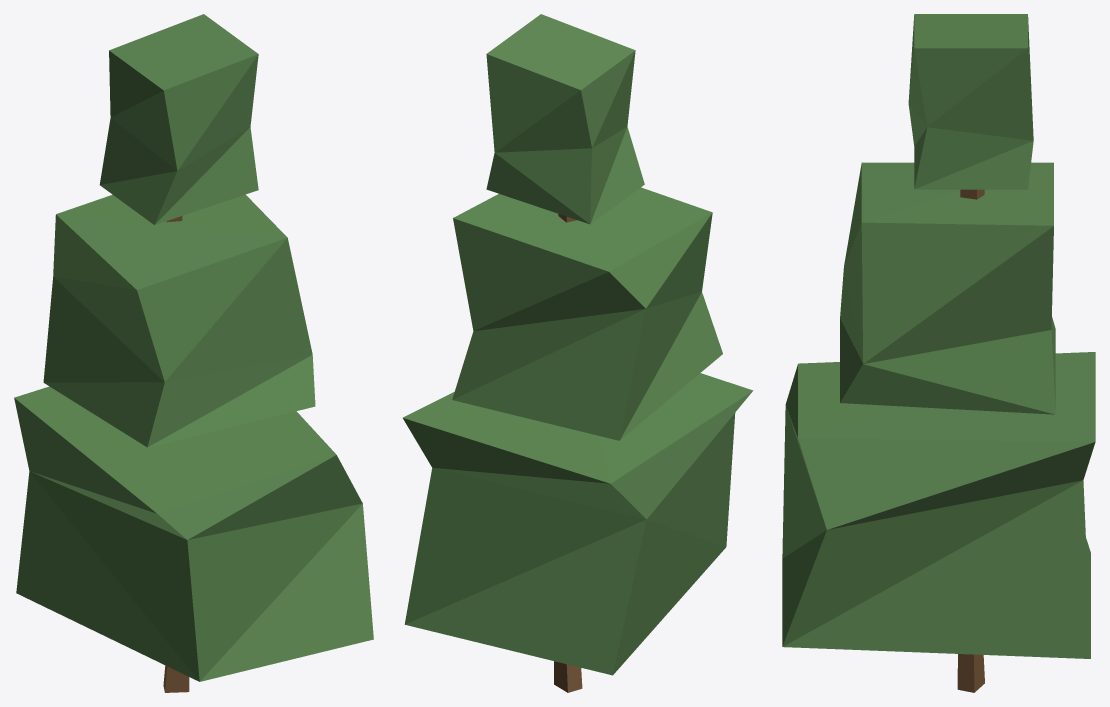
File: tree3d-008.glb
3 renders of one model, left to right at view 1: azimuth 30°, elevation 25°; view 2: azimuth 150°, elevation 25°; view 3: azimuth 270°, elevation 25°, orthographic. The views are drawn at different scales.
Visible parts, largest first — view 1: tree3d-008; view 2: tree3d-008; view 3: tree3d-008.
Boxes of the visible parts, box(x1,y1,x2,y2) form: tree3d-008: box(14, 14, 373, 692); tree3d-008: box(403, 14, 753, 692); tree3d-008: box(782, 14, 1095, 692).
Bounding box in the file's own units: 0.3749 × 1 × 0.4262.
